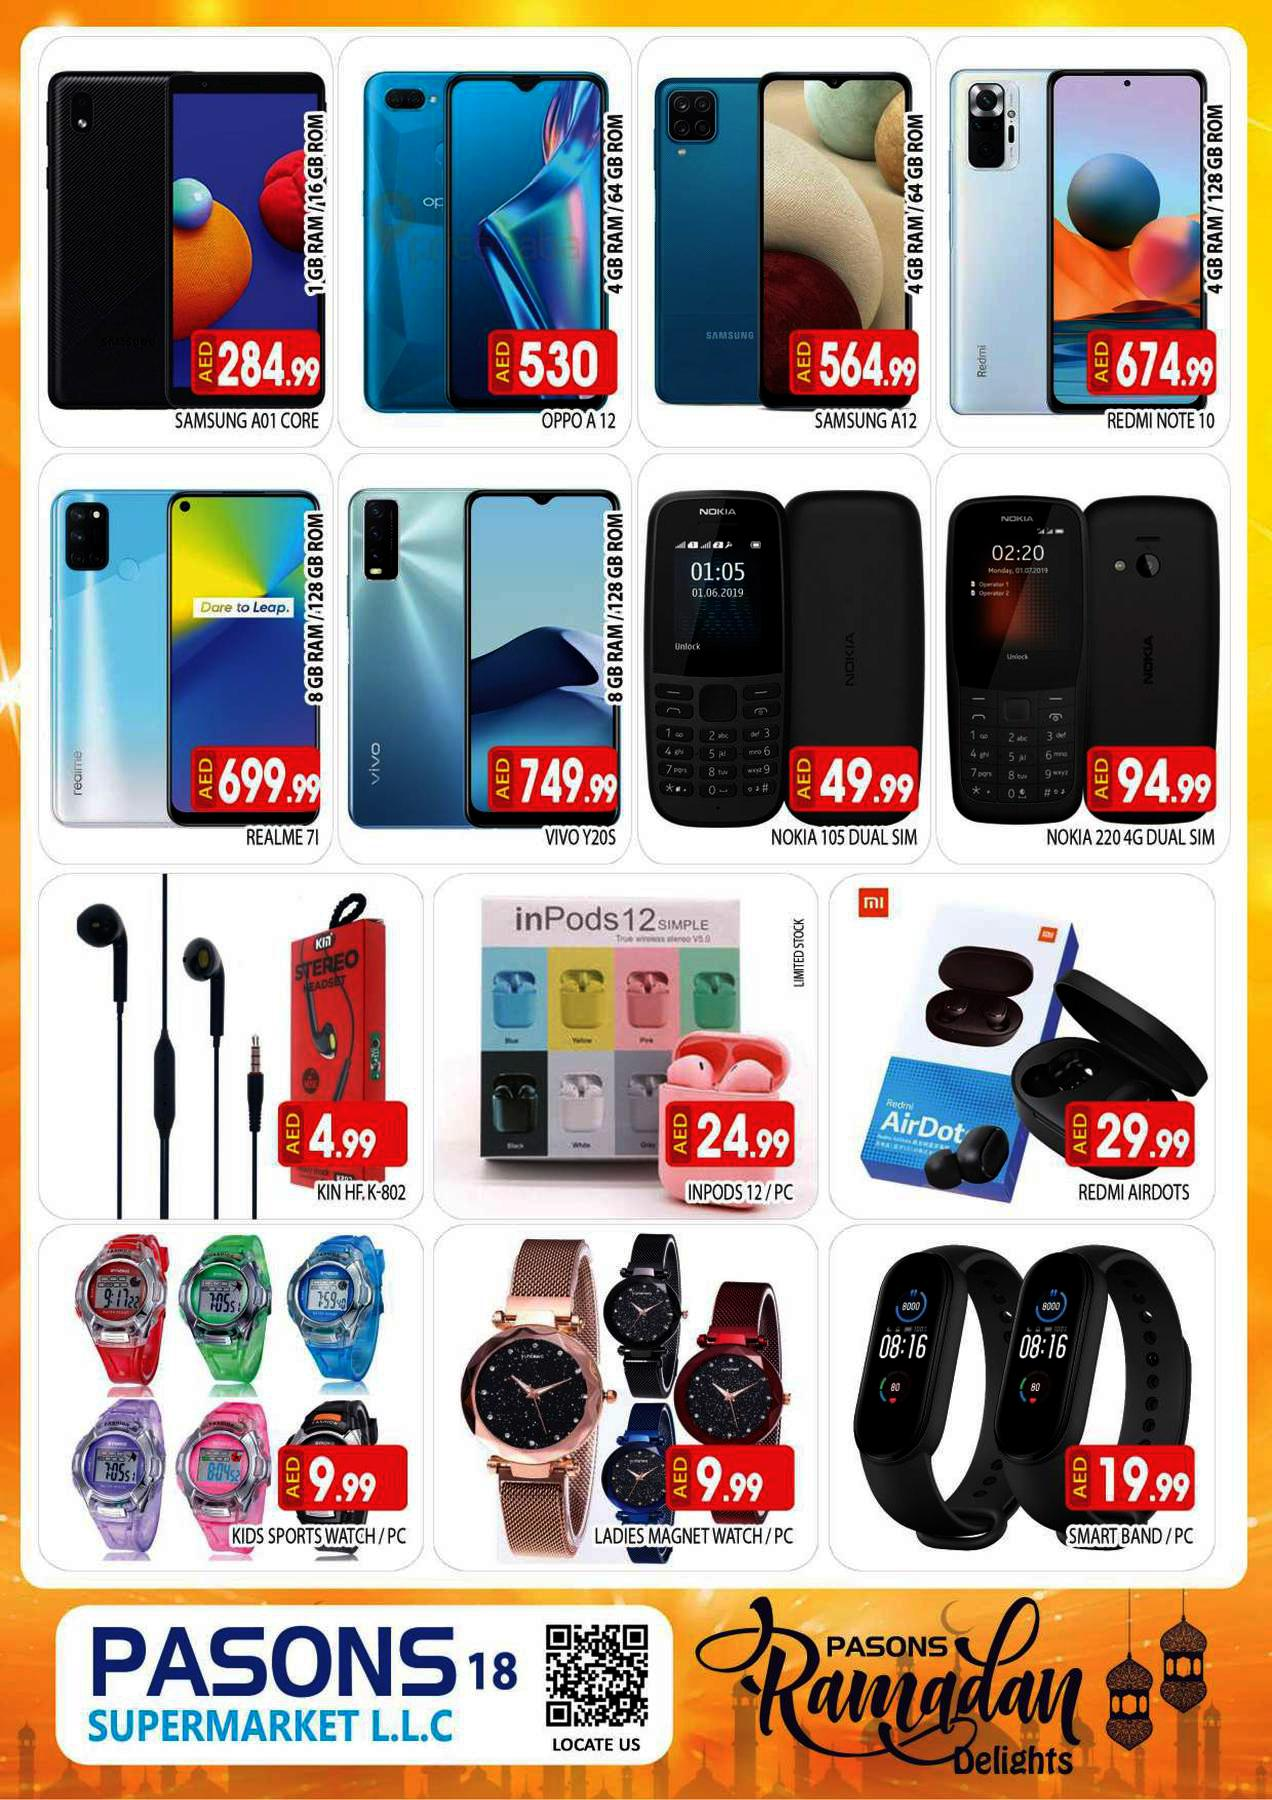text: (586, 1521, 804, 1550), (226, 1523, 412, 1550), (765, 824, 926, 852), (1043, 826, 1222, 849), (1063, 1523, 1200, 1554), (172, 410, 324, 436), (681, 1177, 801, 1210), (808, 406, 922, 438), (1103, 407, 1221, 438), (312, 1178, 414, 1210), (1075, 1179, 1195, 1206), (536, 406, 628, 436), (540, 823, 625, 852), (240, 827, 324, 850)
